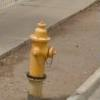Hydrant: (20, 13, 63, 100)
